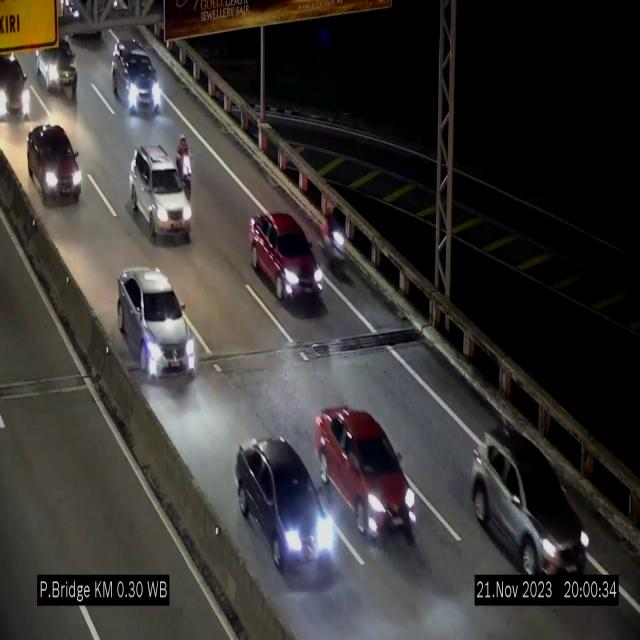Car: (471, 428, 587, 574), (235, 436, 337, 574), (313, 408, 419, 539), (114, 262, 200, 387), (249, 211, 325, 305), (130, 142, 197, 246), (27, 124, 93, 206), (110, 36, 165, 114)
Motorcycle: (326, 204, 349, 280), (173, 132, 193, 194)
